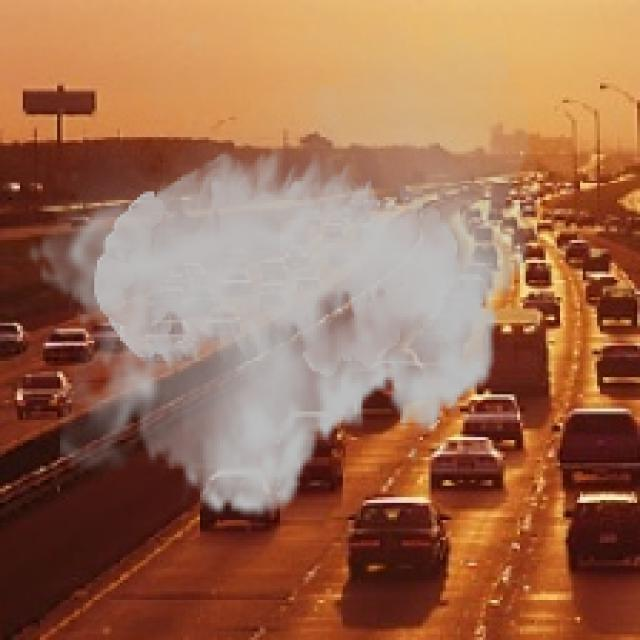smoke: (26, 0, 540, 537)
